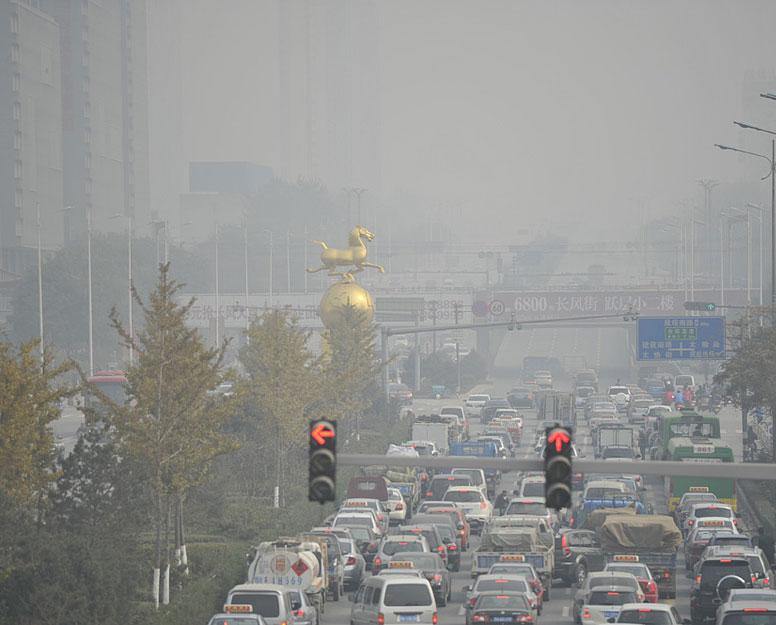bus: (472, 510, 558, 606), (593, 513, 685, 599), (666, 434, 737, 511), (410, 412, 464, 456), (596, 424, 636, 462), (463, 394, 491, 417)
car: (690, 542, 774, 599), (346, 573, 436, 624), (569, 567, 642, 625), (692, 553, 757, 616), (385, 549, 454, 608), (545, 527, 609, 586), (484, 551, 544, 612), (600, 552, 659, 609), (462, 572, 534, 617), (408, 514, 463, 572), (224, 580, 294, 625), (371, 532, 430, 579), (578, 582, 642, 623), (462, 590, 535, 625), (395, 523, 449, 569), (602, 598, 693, 625), (685, 519, 735, 566), (440, 485, 493, 529), (322, 537, 365, 590), (423, 506, 472, 552), (332, 522, 381, 565), (338, 497, 391, 534), (705, 531, 751, 572), (425, 472, 474, 510), (712, 596, 776, 625), (502, 496, 552, 533), (686, 501, 737, 532), (331, 511, 381, 542), (205, 601, 271, 623), (415, 500, 458, 533), (582, 481, 627, 511), (473, 434, 511, 468), (450, 468, 487, 500), (448, 466, 485, 498), (374, 488, 406, 524), (513, 476, 559, 501), (439, 405, 469, 435), (642, 405, 674, 430), (478, 399, 512, 422), (491, 408, 524, 430), (505, 386, 538, 408), (628, 398, 654, 422), (606, 386, 633, 409), (569, 386, 597, 408), (388, 381, 413, 405), (673, 374, 697, 397), (645, 378, 666, 399), (532, 369, 554, 387)
